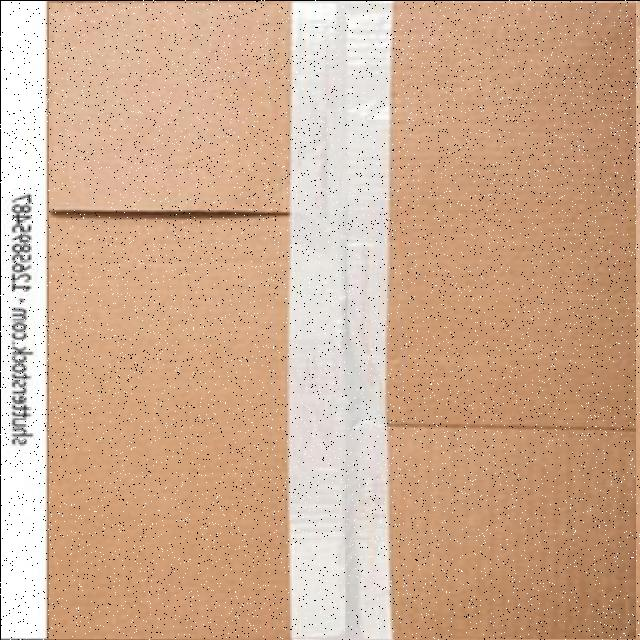normal: (48, 2, 635, 638)
